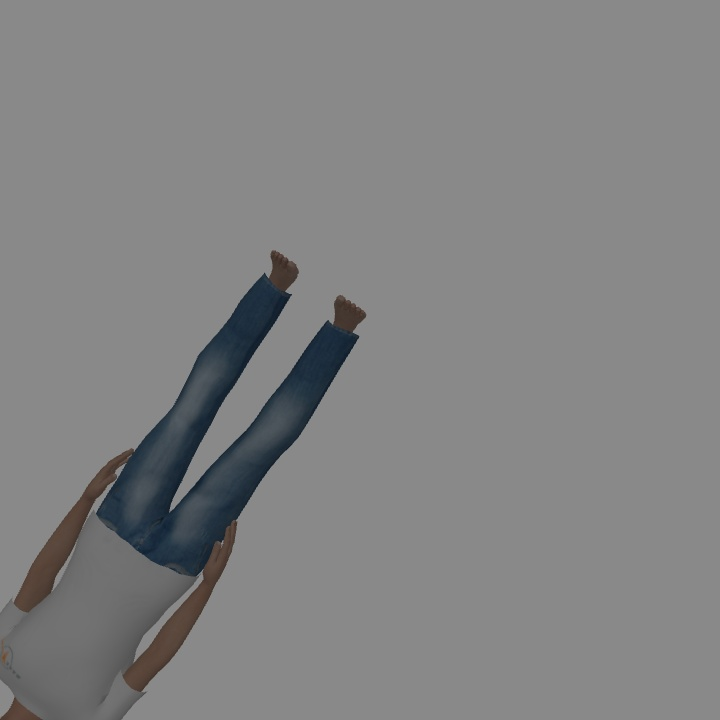victim: (3, 254, 367, 720)
